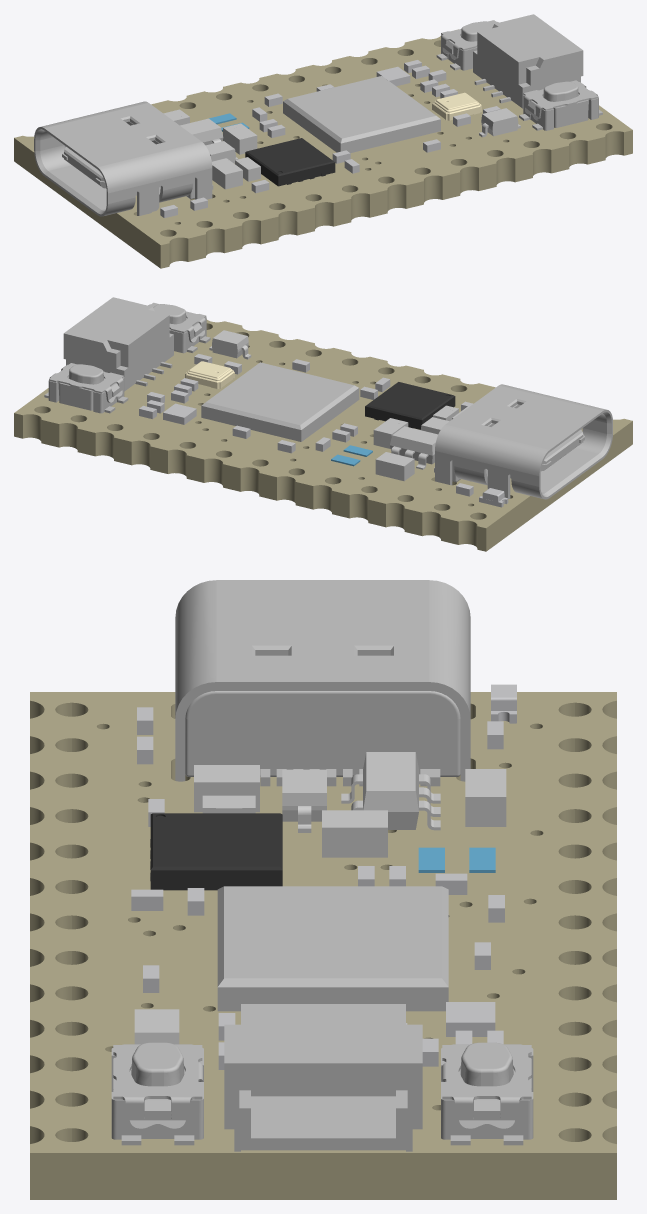
3 renders of one model, top to bottom at view 1: azimuth 30°, elevation 25°; view 2: azimuth 150°, elevation 25°; view 3: azimuth 270°, elevation 25°, orthographic. The views are drawn at different scales.
Visible parts, largest first — view 1: Board:1, USB_C_CUSB31-CFM2AX-01-X:X6, QFN56_7MM_REDUCEDEPAD:IC2, JST_SH4_SKINNY:CONN1, BTN_KMR2_4.6X2.8:SW3, USON8_4X4:U5, BTN_KMR2_4.6X2.8:SW2, CRYSTAL_2.5X2:Y1, SOD-323F:D3, _0805MP:C8, 0805-NO:R8, SOT23-5:U2 (+3 smaller); view 2: Board:1, USB_C_CUSB31-CFM2AX-01-X:X6, QFN56_7MM_REDUCEDEPAD:IC2, JST_SH4_SKINNY:CONN1, BTN_KMR2_4.6X2.8:SW2, USON8_4X4:U5, BTN_KMR2_4.6X2.8:SW3, SOT23-5:U2, CRYSTAL_2.5X2:Y1, _0805MP:C6, SOD-323F:D3, _0805MP:C8 (+2 smaller); view 3: Board:1, USB_C_CUSB31-CFM2AX-01-X:X6, JST_SH4_SKINNY:CONN1, QFN56_7MM_REDUCEDEPAD:IC2, USON8_4X4:U5, BTN_KMR2_4.6X2.8:SW3, BTN_KMR2_4.6X2.8:SW2, SOT23-5:U2, _0805MP:C8, SOD-323F:D1, _0805MP:C6, 0805-NO:R8 (+4 smaller).
Part boxes in pixels (x1=…): Board:1: x1=14, y1=29, x2=632, y2=268; USB_C_CUSB31-CFM2AX-01-X:X6: x1=34, y1=101, x2=213, y2=216; QFN56_7MM_REDUCEDEPAD:IC2: x1=283, y1=76, x2=440, y2=153; JST_SH4_SKINNY:CONN1: x1=473, y1=14, x2=583, y2=108; BTN_KMR2_4.6X2.8:SW3: x1=519, y1=80, x2=602, y2=130; USON8_4X4:U5: x1=245, y1=138, x2=335, y2=186; BTN_KMR2_4.6X2.8:SW2: x1=436, y1=20, x2=498, y2=70; CRYSTAL_2.5X2:Y1: x1=432, y1=92, x2=481, y2=120; SOD-323F:D3: x1=479, y1=108, x2=520, y2=137; _0805MP:C8: x1=223, y1=123, x2=257, y2=154; 0805-NO:R8: x1=212, y1=158, x2=242, y2=189; SOT23-5:U2: x1=180, y1=118, x2=223, y2=145; Board:1: x1=14, y1=319, x2=632, y2=551; USB_C_CUSB31-CFM2AX-01-X:X6: x1=434, y1=384, x2=612, y2=499; QFN56_7MM_REDUCEDEPAD:IC2: x1=201, y1=362, x2=359, y2=441; JST_SH4_SKINNY:CONN1: x1=63, y1=297, x2=173, y2=391; BTN_KMR2_4.6X2.8:SW2: x1=44, y1=363, x2=128, y2=413; USON8_4X4:U5: x1=365, y1=382, x2=455, y2=429; BTN_KMR2_4.6X2.8:SW3: x1=148, y1=302, x2=210, y2=353; SOT23-5:U2: x1=390, y1=426, x2=438, y2=469; CRYSTAL_2.5X2:Y1: x1=185, y1=361, x2=234, y2=389; _0805MP:C6: x1=375, y1=452, x2=414, y2=481; SOD-323F:D3: x1=209, y1=330, x2=251, y2=359; _0805MP:C8: x1=373, y1=418, x2=408, y2=448; Board:1: x1=30, y1=692, x2=616, y2=1199; USB_C_CUSB31-CFM2AX-01-X:X6: x1=175, y1=580, x2=470, y2=786; JST_SH4_SKINNY:CONN1: x1=224, y1=1004, x2=422, y2=1151; QFN56_7MM_REDUCEDEPAD:IC2: x1=217, y1=886, x2=448, y2=1011; USON8_4X4:U5: x1=150, y1=813, x2=282, y2=890; BTN_KMR2_4.6X2.8:SW3: x1=111, y1=1042, x2=203, y2=1145; BTN_KMR2_4.6X2.8:SW2: x1=441, y1=1042, x2=533, y2=1145; SOT23-5:U2: x1=341, y1=752, x2=440, y2=830; _0805MP:C8: x1=322, y1=810, x2=387, y2=857; SOD-323F:D1: x1=282, y1=769, x2=326, y2=832; _0805MP:C6: x1=465, y1=769, x2=506, y2=826; 0805-NO:R8: x1=194, y1=765, x2=259, y2=812.
Bounding box in the file's own units: 0.0342 × 0.00477 × 0.0178.
